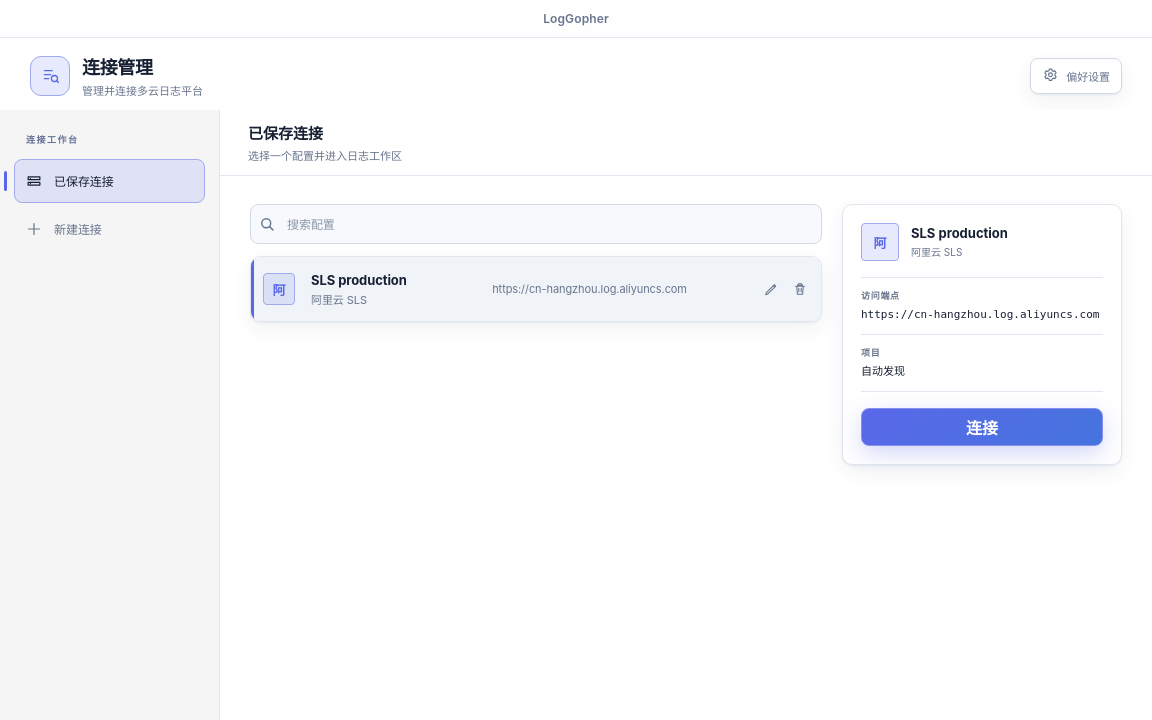
Test: App connection workflow › uses an SLS full-text term when a clicked JSON path has no field index
Click the button "连接": click(982, 427) [861,408,1103,446]
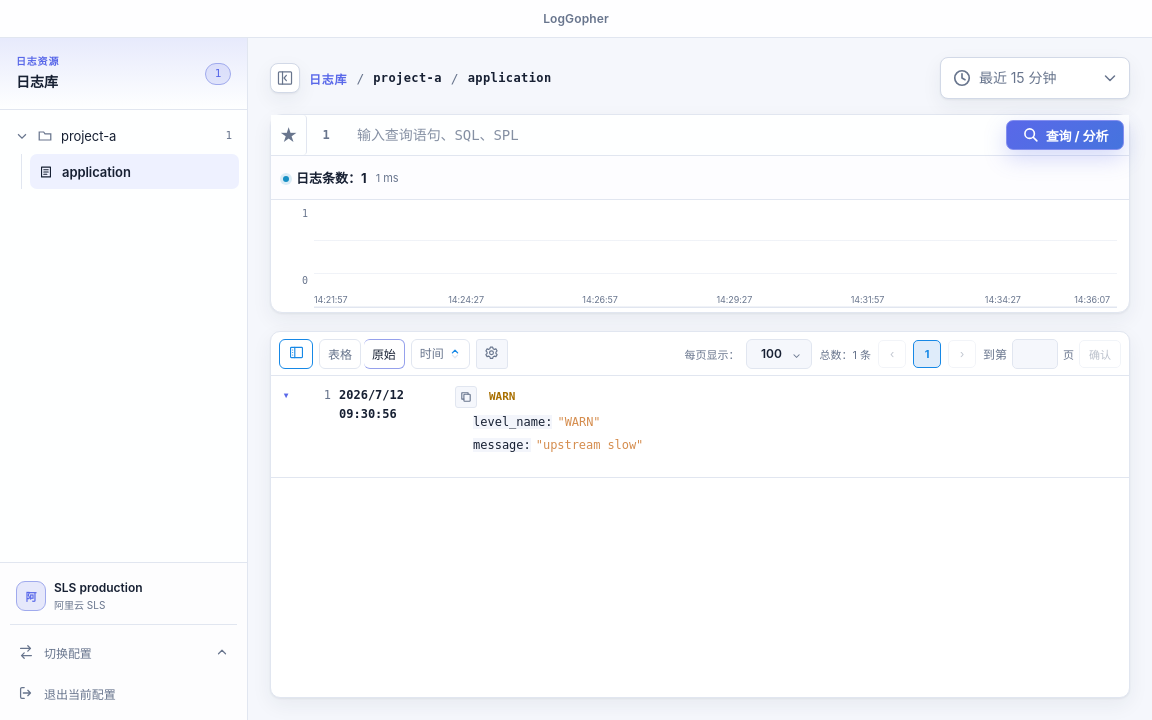
Click the button "\"WARN\"": click(579, 422) [558,413,600,432]
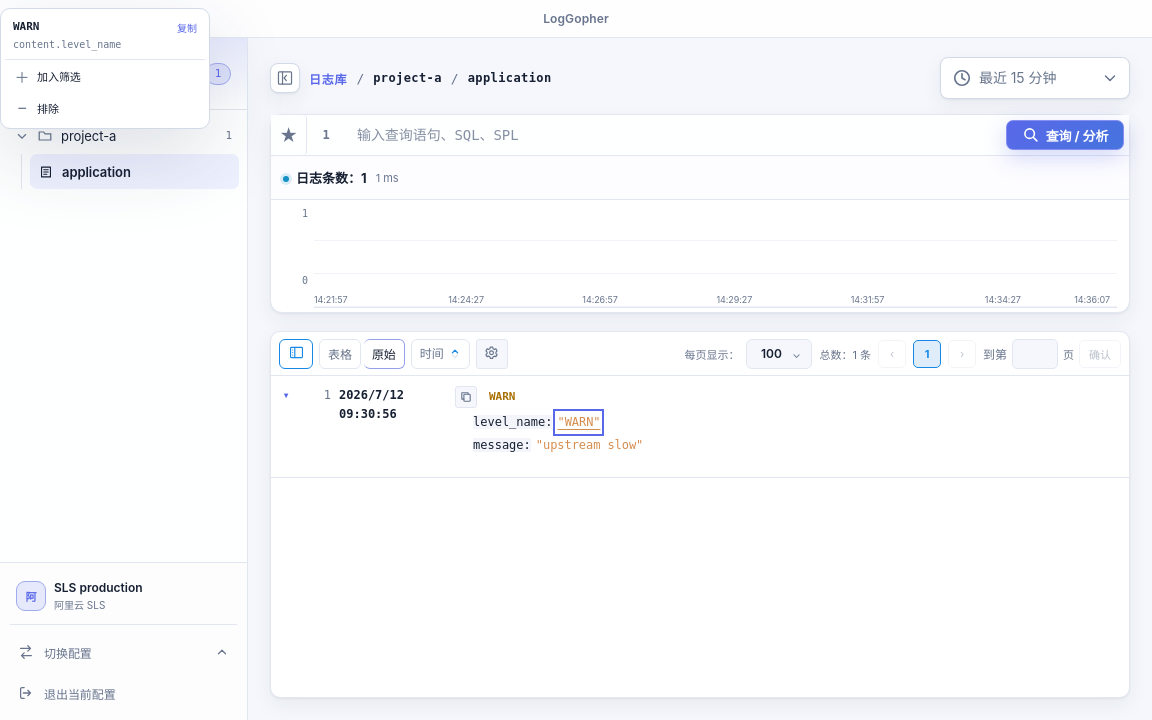
Click the menu item "＋ 加入筛选": click(105, 76) [5,60,205,92]
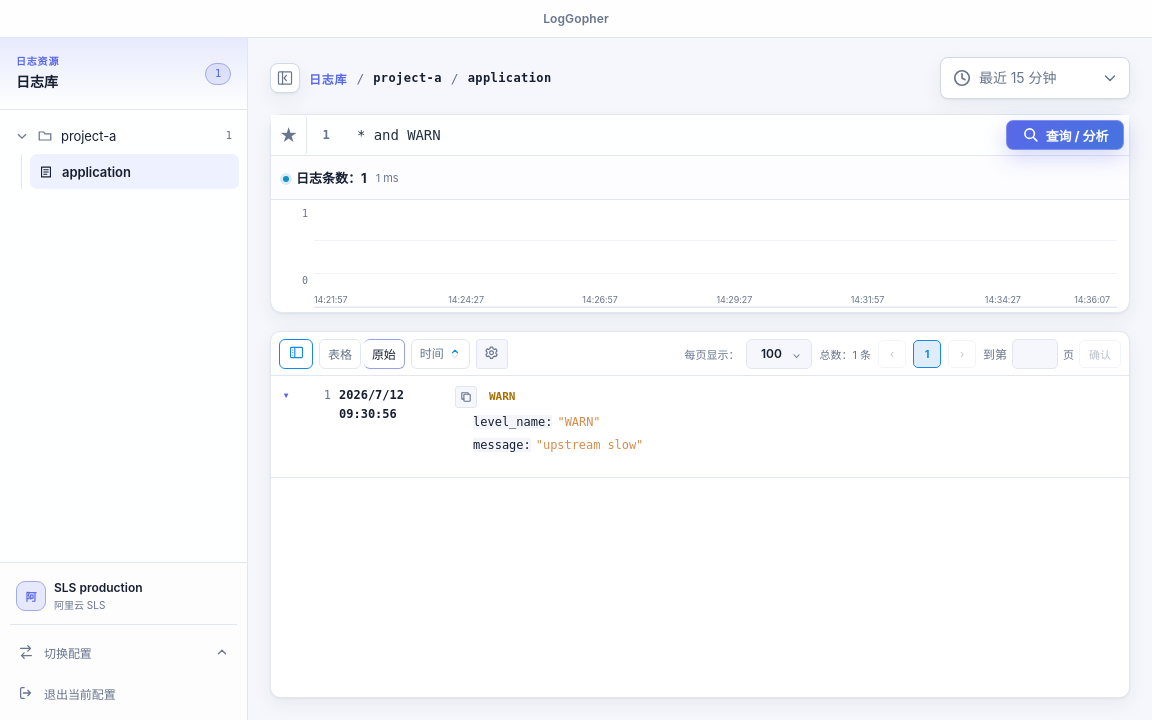
Now the text box with placeholder "输入查询语句、SQL、SPL" holds "* and WARN", box [345,115,1001,155]
